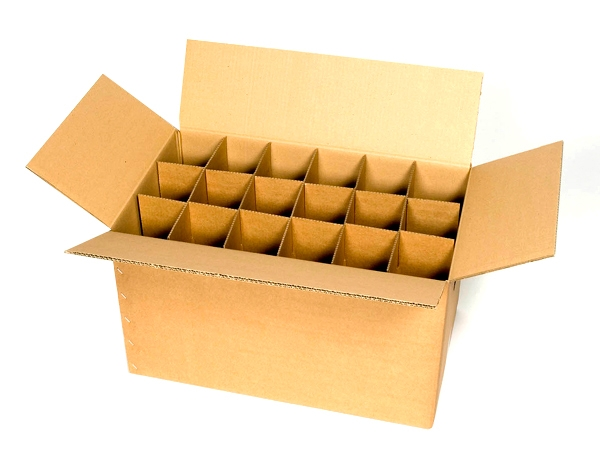Rec_Paper: (35, 21, 571, 425)
